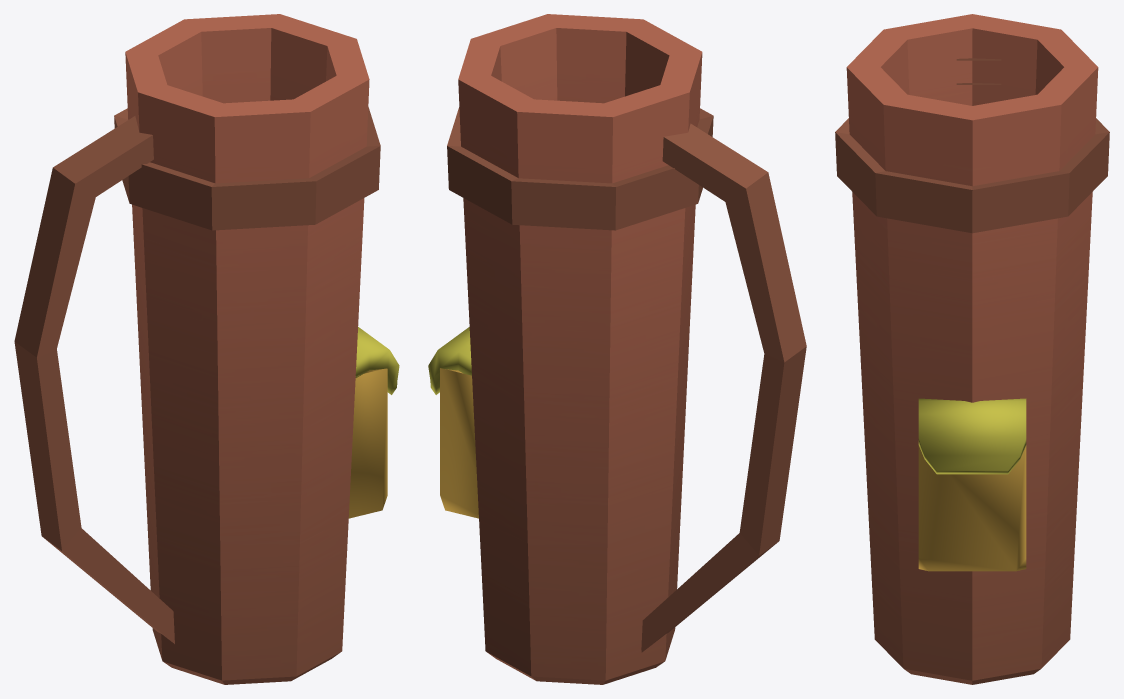
File: Quiver.fbx
3 views of the same model, side by side, from view 1: azimuth 30°, elevation 25°; view 2: azimuth 150°, elevation 25°; view 3: azimuth 270°, elevation 25° (orthographic).
Visible parts, largest first — view 1: Cylinder.013; view 2: Cylinder.013; view 3: Cylinder.013.
Boxes of the visible parts, bbox=[...] form: Cylinder.013: bbox=[14, 14, 399, 684]; Cylinder.013: bbox=[428, 14, 806, 684]; Cylinder.013: bbox=[835, 14, 1109, 684].
Bounding box in the file's own units: 235 × 374 × 160.
